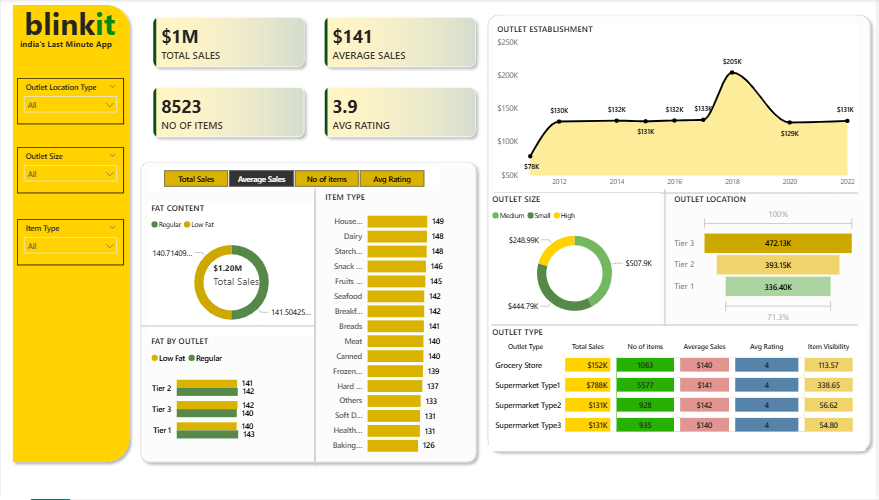

The dashboard page shown, as its layout file describes it:
{"tool":"powerbi","page":{"name":"Page 1","canvas":[1400,800],"ordinal":0},"visuals":[{"type":"shape","box":[10,0,205,750],"z":0},{"type":"textbox","box":[23.9,0,172.7,75.3],"z":1000},{"type":"textbox","box":[25.7,57,170.9,34.9],"z":2000},{"type":"cardVisual","fields":{"Data":["BlinkIT Grocery Data.Total Sales","BlinkIT Grocery Data.Average Sales","BlinkIT Grocery Data.No of items","BlinkIT Grocery Data.Avg Rating"]},"box":[214.4,0,574.4,251.2],"z":3000},{"type":"shape","box":[214.4,251.2,555.2,499.2],"z":4000},{"type":"donutChart","title":"FAT CONTENT","fields":{"Y":["BlinkIT Grocery Data.Average Sales"],"Category":["BlinkIT Grocery Data.Item Fat Content"]},"box":[235.2,324.8,267.2,212.8],"z":5000},{"type":"slicer","fields":{"Values":["Metrics.Metrics"]},"box":[235.2,267.2,465.6,40],"z":6000},{"type":"cardVisual","fields":{"Data":["BlinkIT Grocery Data.Total Sales"]},"box":[310.4,400,158.4,81.6],"z":7000},{"type":"clusteredBarChart","title":"FAT BY OUTLET","fields":{"Y":["BlinkIT Grocery Data.Average Sales"],"Category":["BlinkIT Grocery Data.Outlet Location Type"],"Series":["BlinkIT Grocery Data.Item Fat Content"]},"box":[235.2,537.6,220.8,185.6],"z":8000},{"type":"shape","box":[224,481.6,278.4,83.2],"z":9000},{"type":"shape","box":[363.2,302.4,278.4,436.8],"z":10000},{"type":"barChart","title":"ITEM TYPE","fields":{"Y":["BlinkIT Grocery Data.Average Sales"],"Category":["BlinkIT Grocery Data.Item Type"]},"box":[513.6,307.2,240,432],"z":11000},{"type":"shape","box":[769.6,16,630.4,716.8],"z":12000},{"type":"lineChart","title":"OUTLET ESTABLISHMENT","fields":{"Y":["BlinkIT Grocery Data.Total Sales"],"Category":["BlinkIT Grocery Data.Outlet Establishment Year"]},"box":[788.8,38.4,582.4,272],"z":13000},{"type":"shape","box":[788.8,268.8,582.4,83.2],"z":14000},{"type":"donutChart","title":"OUTLET SIZE","fields":{"Y":["BlinkIT Grocery Data.Total Sales"],"Category":["BlinkIT Grocery Data.Outlet Size"]},"box":[780.8,310.4,273.6,212.8],"z":15000},{"type":"shape","box":[923.2,304,278.4,219.2],"z":15001},{"type":"funnel","title":"OUTLET LOCATION","fields":{"Category":["BlinkIT Grocery Data.Outlet Location Type"],"Y":["Sum(BlinkIT Grocery Data.Sales)"]},"box":[1072,310.4,299.2,212.8],"z":15002},{"type":"shape","box":[363.2,310.4,278.4,436.8],"z":15003},{"type":"shape","box":[784,480,587.2,83.2],"z":15004},{"type":"pivotTable","title":"OUTLET TYPE","fields":{"Rows":["BlinkIT Grocery Data.Outlet Type"],"Values":["BlinkIT Grocery Data.Total Sales","BlinkIT Grocery Data.No of items","BlinkIT Grocery Data.Average Sales","BlinkIT Grocery Data.Avg Rating","Sum(BlinkIT Grocery Data.Item Visibility)"]},"box":[780.8,523.2,601.6,200],"z":15005},{"type":"slicer","fields":{"Values":["BlinkIT Grocery Data.Outlet Location Type"]},"box":[25.6,126.4,171.2,73.6],"z":15006},{"type":"slicer","fields":{"Values":["BlinkIT Grocery Data.Outlet Size"]},"box":[25.6,236.8,171.2,73.6],"z":15007},{"type":"slicer","fields":{"Values":["BlinkIT Grocery Data.Item Type"]},"box":[25.6,352,171.2,73.6],"z":15008}]}

Visuals, with their boxes in screenshot pixels (x1, y1, x2, y2), scaled from the page's 1400x800 canvas onto the 879x500 screenshot:
shape: (6,0,135,469)
textbox: (15,0,123,47)
textbox: (16,36,123,57)
cardVisual - BlinkIT Grocery Data.Total Sales x BlinkIT Grocery Data.Average Sales: (135,0,495,157)
shape: (135,157,483,469)
"FAT CONTENT" donutChart: (148,203,315,336)
slicer - Metrics.Metrics: (148,167,440,192)
cardVisual - BlinkIT Grocery Data.Total Sales: (195,250,294,301)
"FAT BY OUTLET" clusteredBarChart: (148,336,286,452)
shape: (141,301,315,353)
shape: (228,189,403,462)
"ITEM TYPE" barChart: (322,192,473,462)
shape: (483,10,878,458)
"OUTLET ESTABLISHMENT" lineChart: (495,24,861,194)
shape: (495,168,861,220)
"OUTLET SIZE" donutChart: (490,194,662,327)
shape: (580,190,754,327)
"OUTLET LOCATION" funnel: (673,194,861,327)
shape: (228,194,403,467)
shape: (492,300,861,352)
"OUTLET TYPE" pivotTable: (490,327,868,452)
slicer - BlinkIT Grocery Data.Outlet Location Type: (16,79,124,125)
slicer - BlinkIT Grocery Data.Outlet Size: (16,148,124,194)
slicer - BlinkIT Grocery Data.Item Type: (16,220,124,266)
